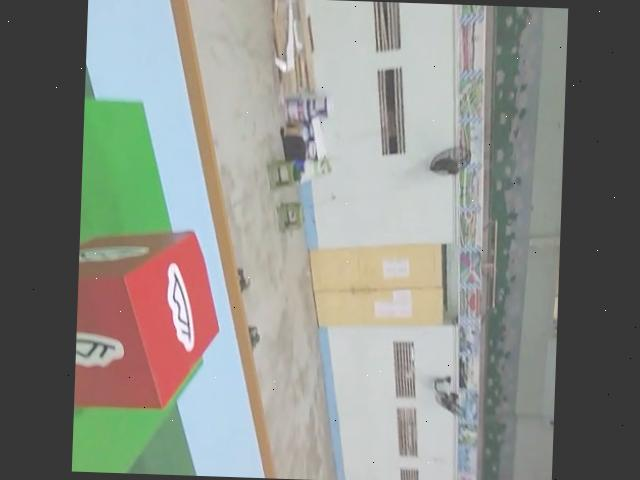R2 Real: (74, 224, 226, 413)
